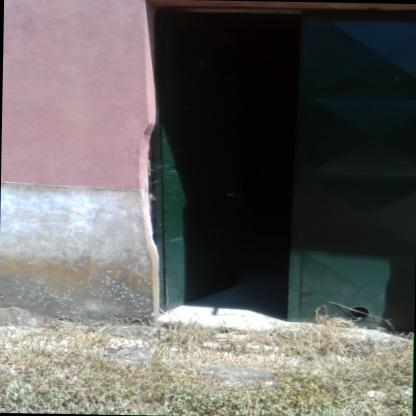open: (135, 1, 416, 342)
